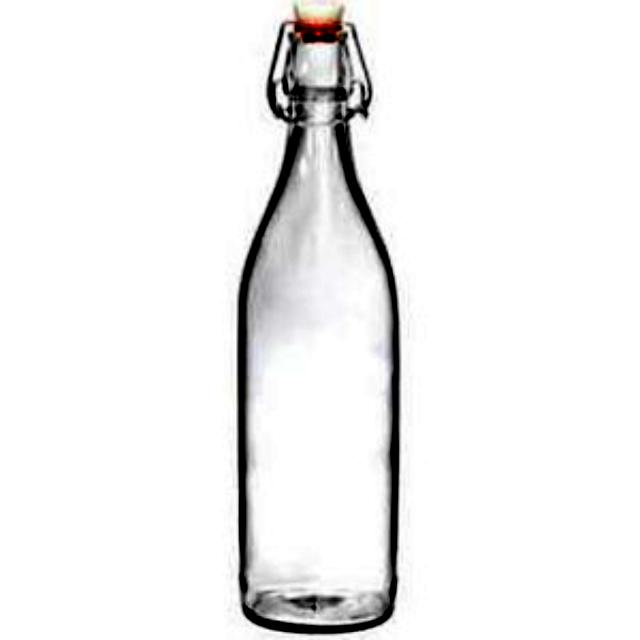Glass: (236, 34, 402, 632)
